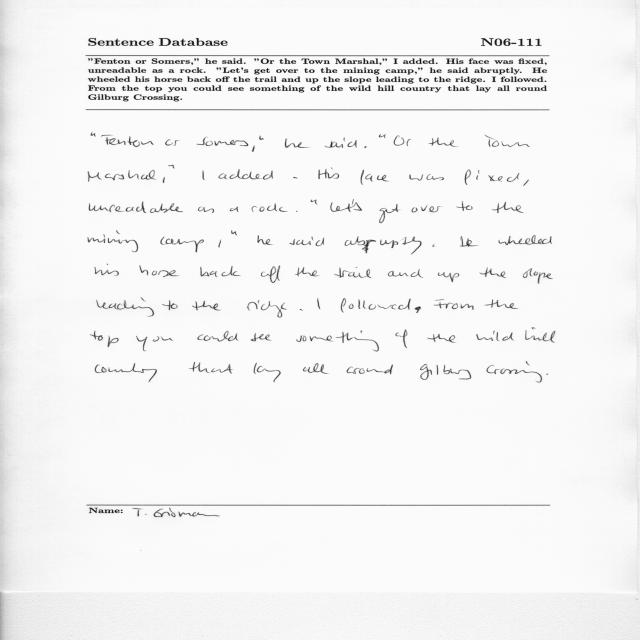word: (296, 331, 379, 352), (345, 237, 422, 255), (95, 363, 157, 382), (487, 362, 543, 383), (89, 201, 183, 213), (97, 298, 154, 317), (352, 200, 399, 223), (88, 231, 138, 252), (341, 298, 411, 313), (465, 169, 519, 185), (88, 170, 156, 182), (420, 364, 471, 380), (247, 300, 287, 318), (160, 237, 204, 252), (101, 135, 154, 147), (218, 169, 273, 180), (485, 134, 530, 147), (136, 336, 173, 351), (498, 235, 552, 245), (254, 363, 281, 383), (189, 362, 233, 374), (139, 265, 179, 277), (523, 268, 553, 284), (346, 365, 393, 375), (197, 137, 249, 146), (90, 331, 119, 347), (197, 331, 239, 342), (200, 266, 241, 277), (525, 328, 555, 343), (434, 299, 474, 310), (360, 170, 389, 185), (334, 267, 372, 278), (476, 331, 514, 341), (324, 137, 357, 148), (492, 202, 524, 213), (290, 237, 325, 247), (261, 265, 280, 283), (485, 299, 518, 309), (330, 202, 362, 212), (388, 269, 423, 278), (480, 267, 507, 278), (251, 204, 288, 212), (429, 137, 458, 147), (192, 301, 221, 311), (95, 264, 119, 276), (303, 363, 328, 374), (428, 334, 456, 343), (285, 138, 310, 148), (409, 174, 444, 181), (411, 205, 441, 213), (295, 267, 319, 277), (319, 168, 340, 179), (396, 329, 408, 348), (438, 272, 459, 282), (394, 135, 412, 146), (460, 236, 478, 247), (456, 201, 473, 211), (162, 300, 178, 310), (251, 334, 271, 342), (258, 235, 273, 245), (165, 139, 179, 146), (198, 207, 214, 213), (230, 207, 239, 212), (415, 306, 421, 313), (523, 180, 529, 186), (317, 298, 320, 309), (202, 170, 205, 180), (311, 200, 317, 205), (231, 231, 237, 236), (379, 134, 386, 138), (168, 165, 175, 169), (91, 132, 96, 137), (259, 135, 264, 140), (252, 145, 255, 152), (218, 240, 221, 247), (163, 177, 165, 183), (432, 244, 435, 247), (293, 177, 297, 179), (364, 146, 367, 148), (300, 309, 303, 311), (296, 211, 298, 212), (546, 374, 548, 375), (400, 210, 401, 210)
